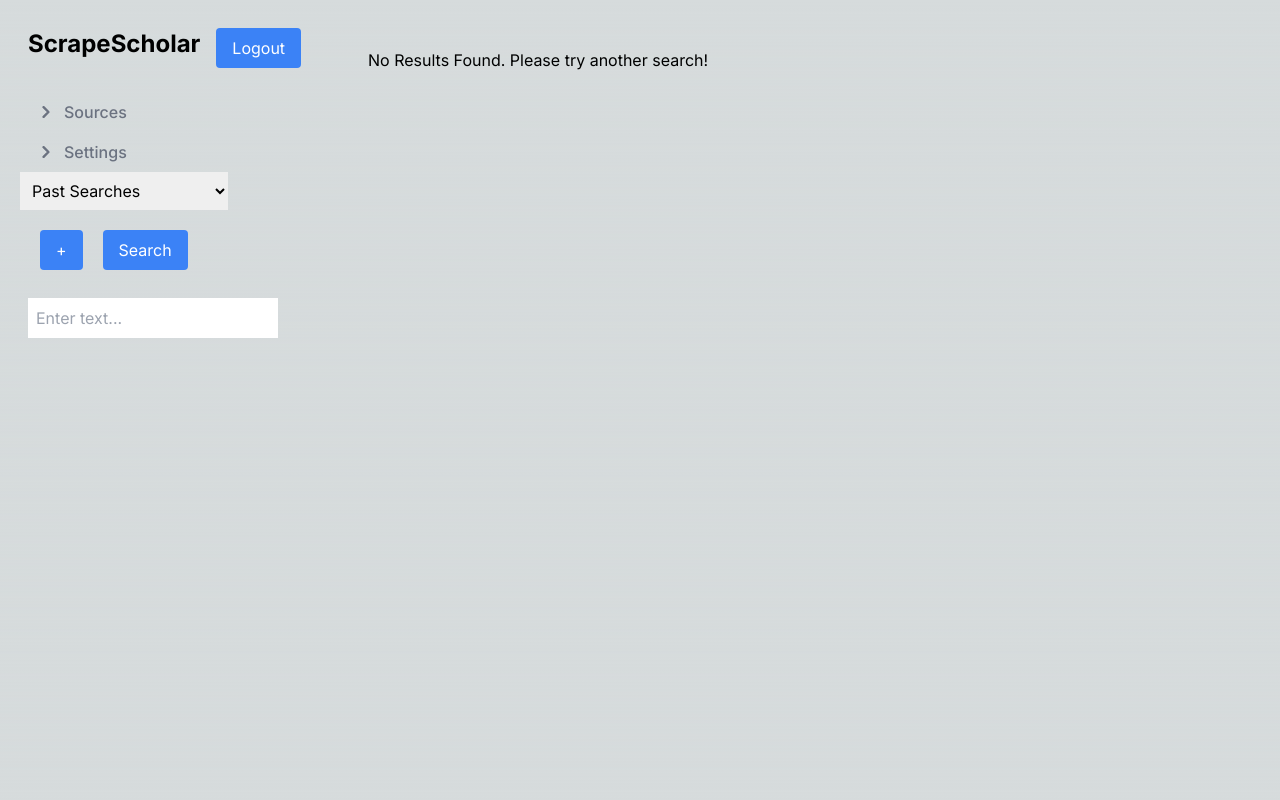
Test: SearchView US-17 Component › US-20 Settings Accordion Expands and shows API Keys, enter bad API key sciencedirect and scopus
The width and height of the screenshot is (1280, 800).
Step 1. Click the button "Settings" → coordinates (89, 152), box [32,132,147,172]
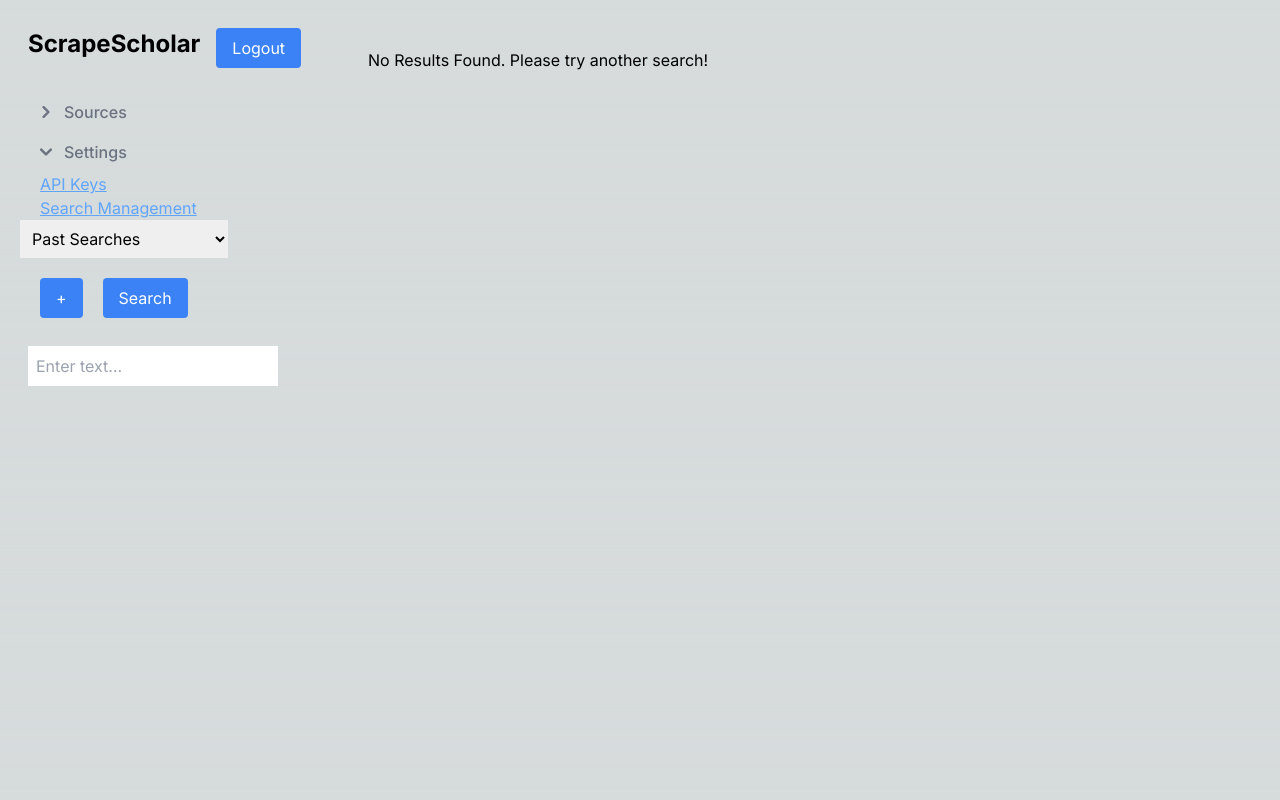
Check: the link "API Keys" is shown
Step 2. Click the link "API Keys" → coordinates (73, 184), box [40,174,107,194]
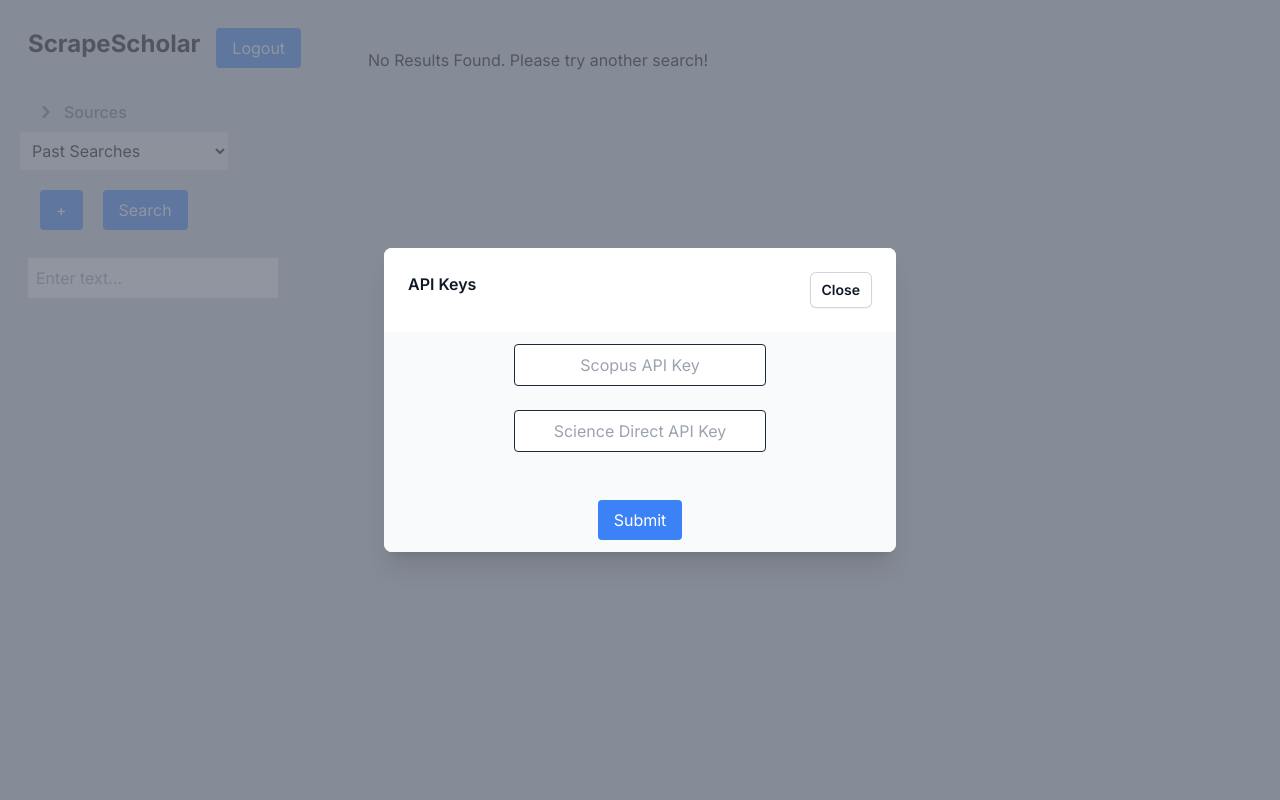
Check: the field with test id "scopus-api-input" is shown, box [514,344,766,386]
Check: the field with test id "sciencedirect-api-input" is shown
Check: the button "Submit" is shown, box [598,500,682,540]
Step 3. Type "bad_api_key" into the field with test id "sciencedirect-api-input" → coordinates (640, 431), box [514,410,766,452]
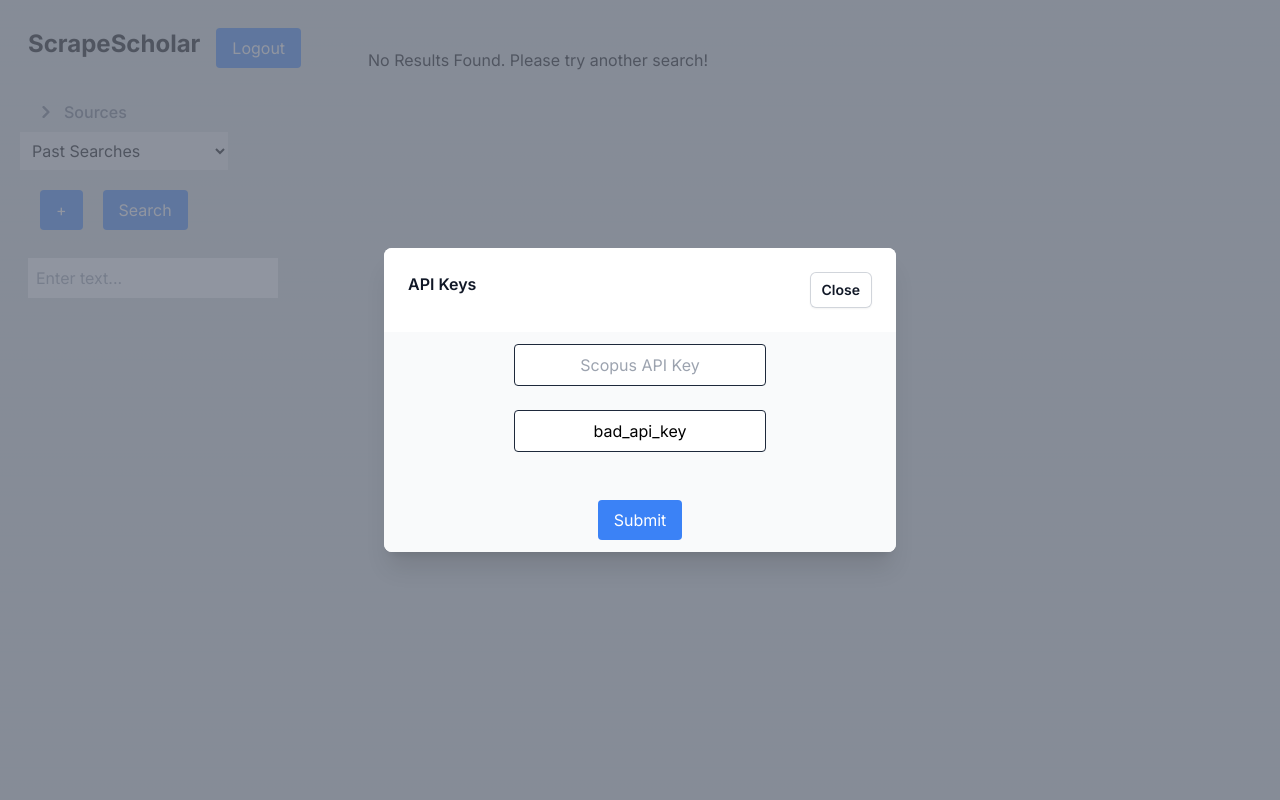
Step 4. Type "bad_api_key" into the field with test id "scopus-api-input" → coordinates (640, 365), box [514,344,766,386]
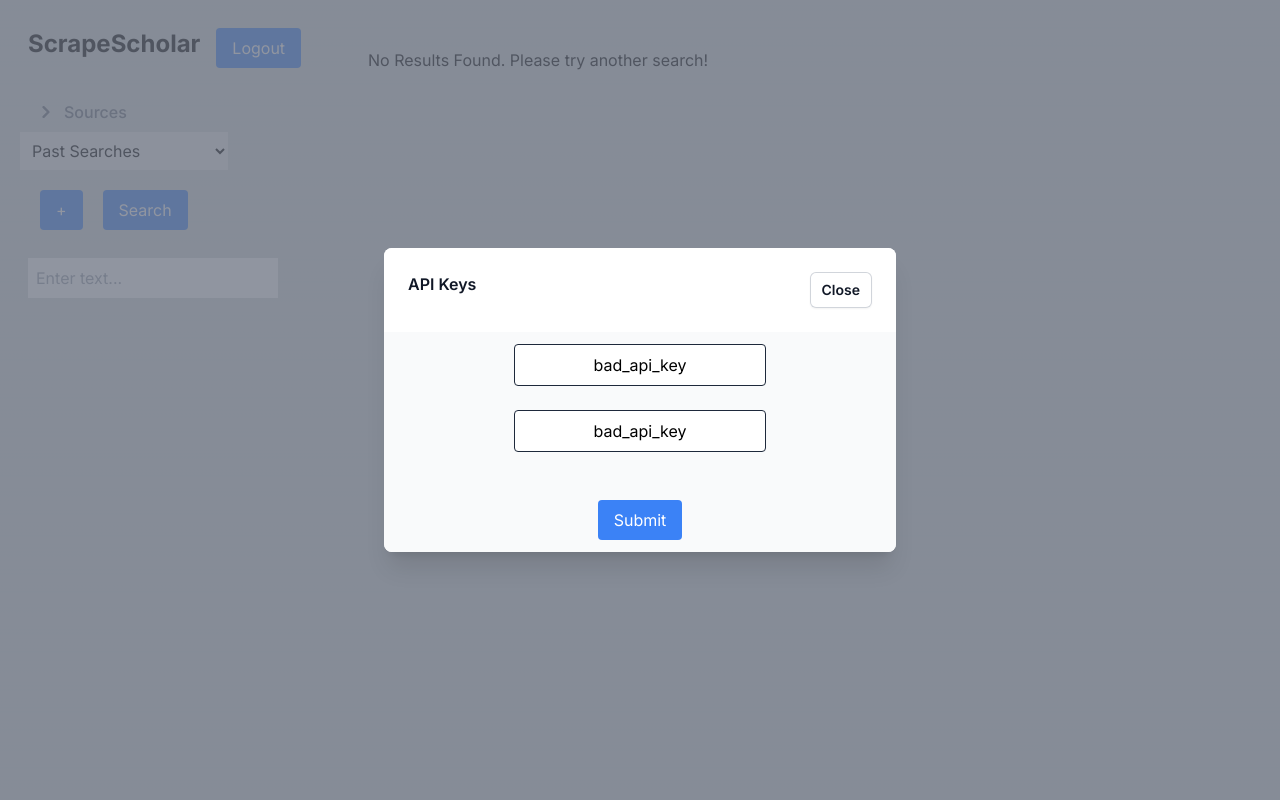
Step 5. Click the button "Submit" → coordinates (640, 520), box [598,500,682,540]
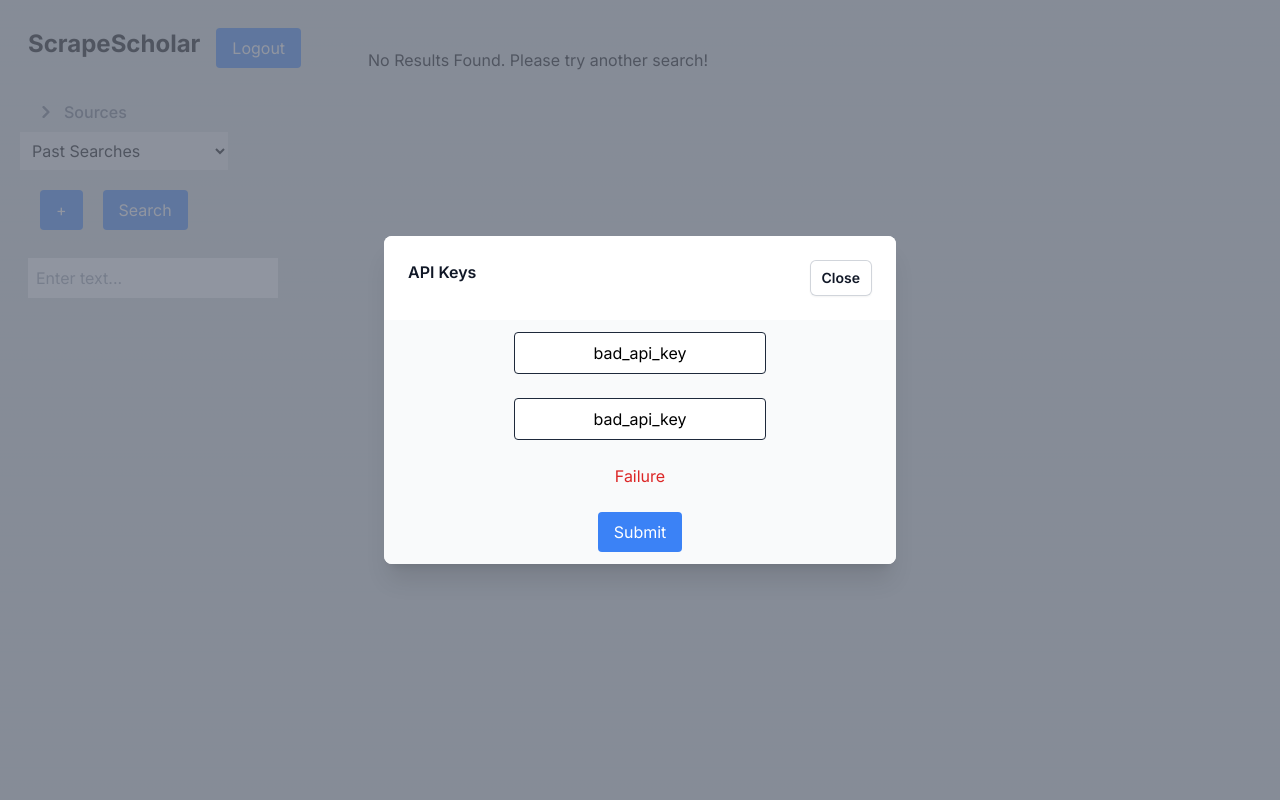
Check: the text "Failure" is shown, box [615,464,665,488]
